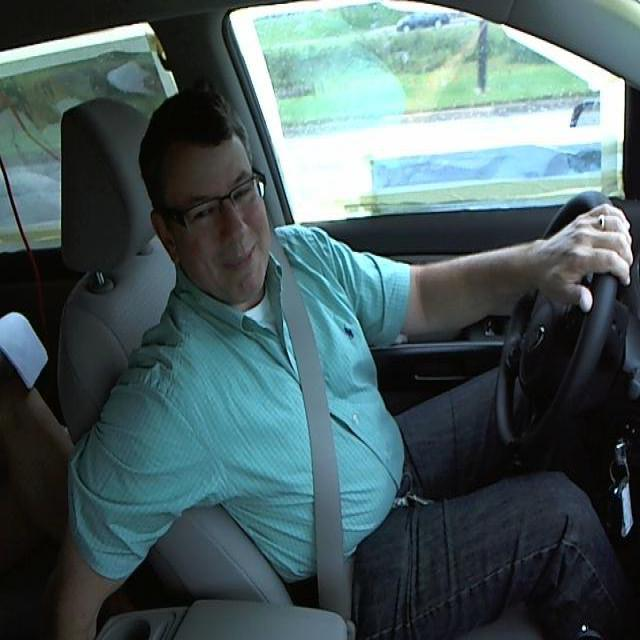seatbelt: (254, 277, 366, 604)
